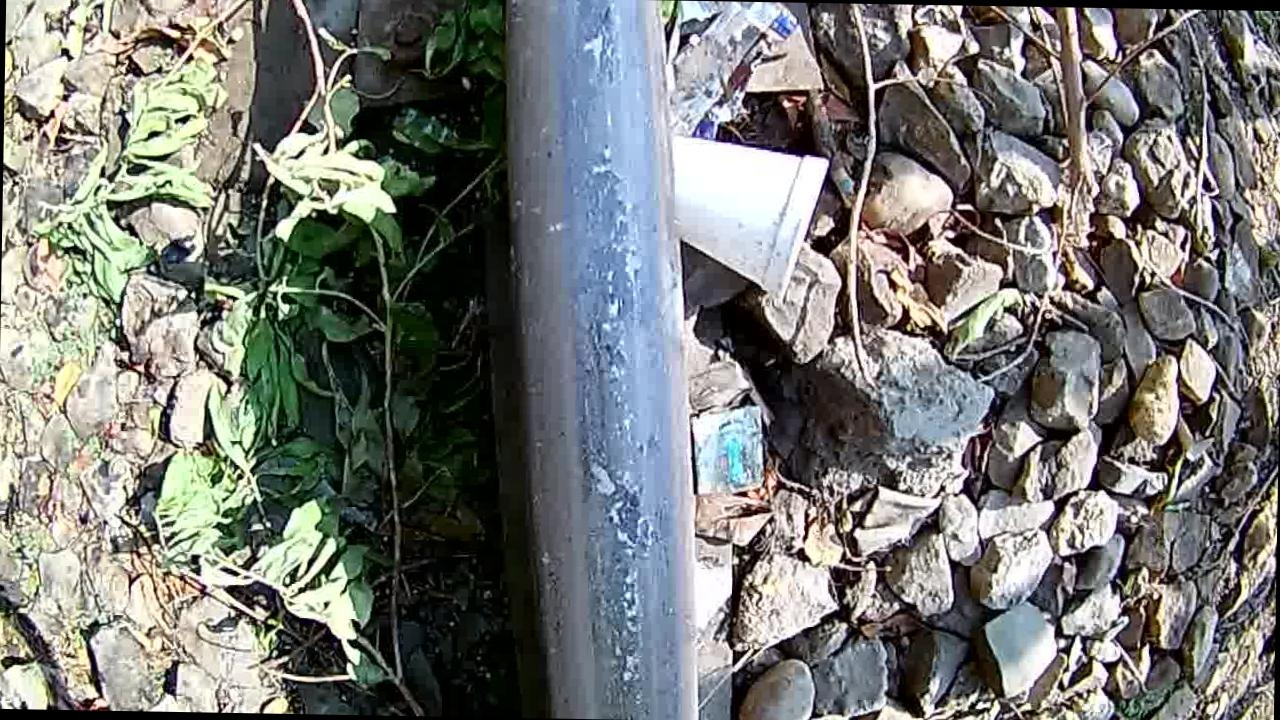crack: (504, 0, 692, 720)
